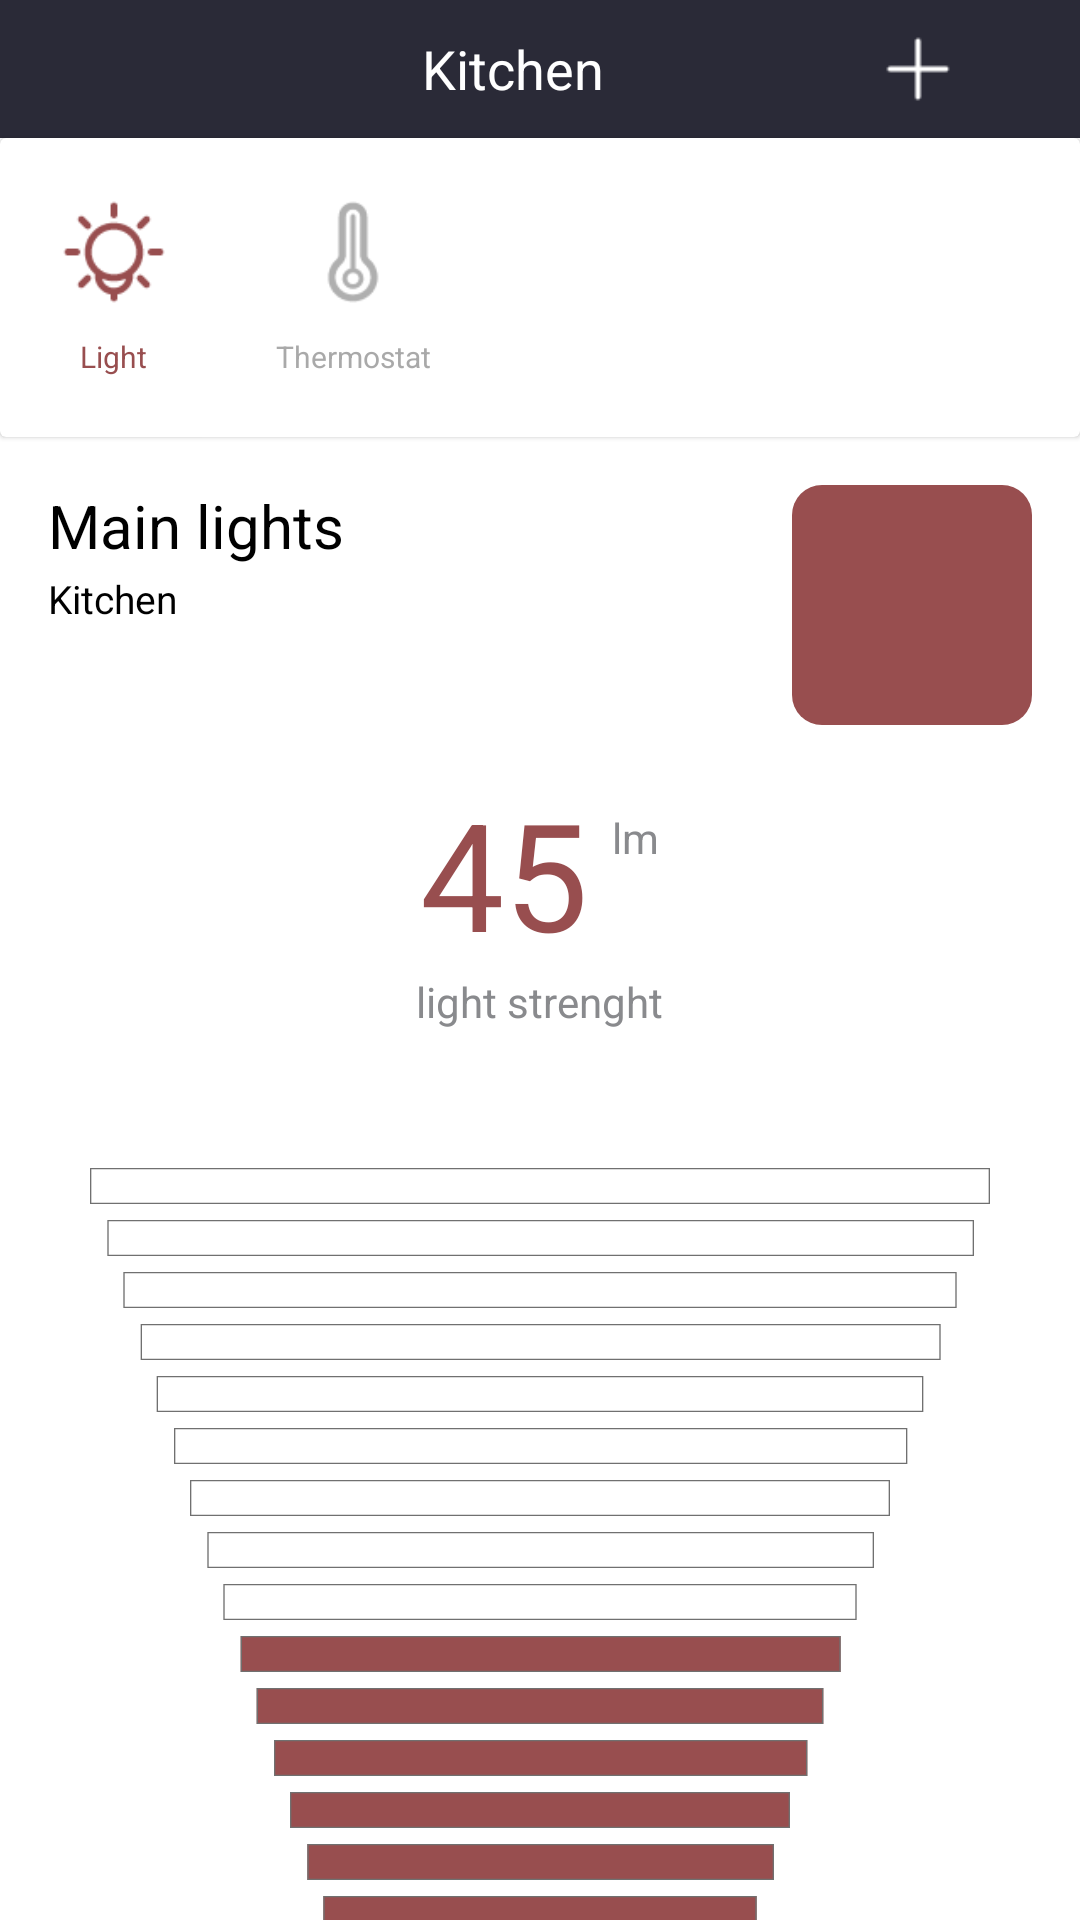

Icon click points for this 1080px x 1920px phone screenshot, format [x,y]:
term no click: [353,252]
